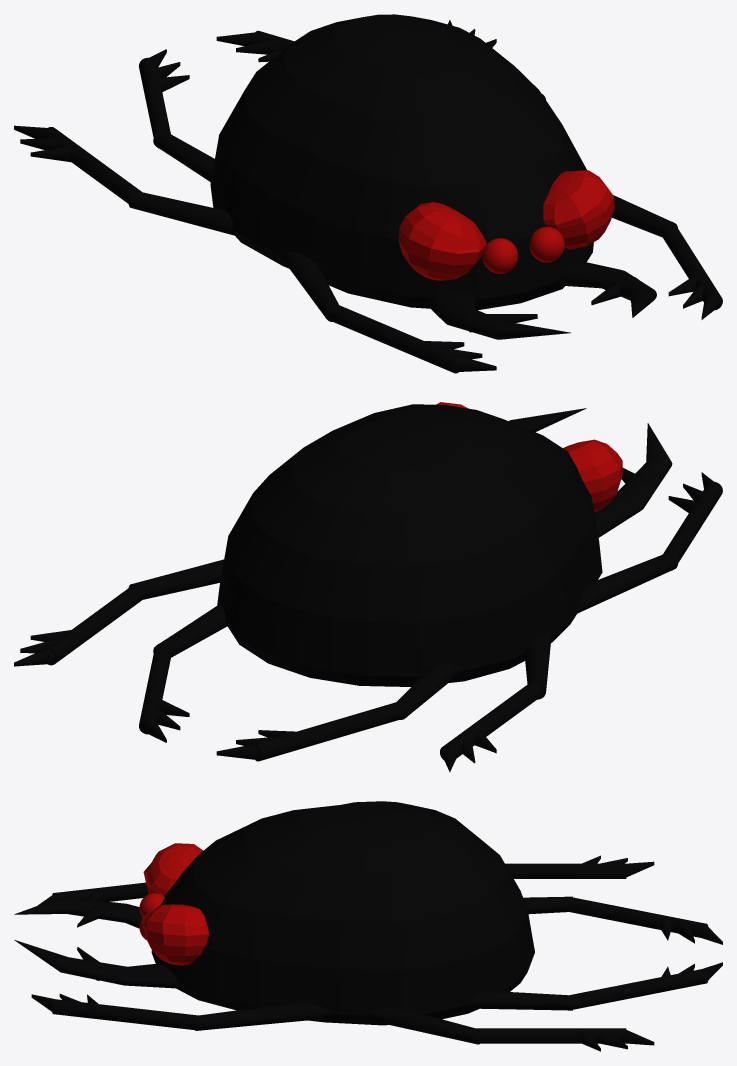
Rendered from Beetle.fbx.
3 views of the same model, one above another, from view 1: azimuth 30°, elevation 25°; view 2: azimuth 150°, elevation 25°; view 3: azimuth 270°, elevation 25° (orthographic). The views are drawn at different scales.
Visible parts, largest first — view 1: Carapace, BigRight, BigLeft, pCylinder2, LegLeft16, pCylinder1, LegLeft20, LegLeft21, LegLeft15, LegLeft1, LegLeft25, LegLeft26 (+3 smaller); view 2: Carapace, pCylinder2, LegLeft26, BigRight, LegLeft15, LegLeft6, LegLeft21, LegLeft5, LegLeft16, LegLeft10, LegLeft25, LegLeft11 (+2 smaller); view 3: Carapace, BigLeft, pCylinder1, LegLeft, LegLeft1, LegLeft11, LegLeft6, LegLeft5, LegLeft21, LegLeft26, pCylinder2, BigRight (+3 smaller).
Part boxes in pixels (box(x1,y1,x2,y2)): Carapace: box(210, 14, 593, 310); BigRight: box(398, 202, 486, 280); BigLeft: box(543, 170, 614, 249); pCylinder2: box(426, 290, 570, 339); LegLeft16: box(324, 303, 460, 373); pCylinder1: box(558, 260, 656, 317); LegLeft20: box(128, 191, 237, 236); LegLeft21: box(44, 127, 141, 203); LegLeft15: box(282, 252, 338, 321); LegLeft1: box(660, 221, 722, 310); LegLeft25: box(153, 130, 214, 182); LegLeft26: box(139, 57, 170, 148); Carapace: box(217, 404, 602, 686); pCylinder2: box(594, 423, 672, 537); LegLeft26: box(254, 701, 407, 761); BigRight: box(563, 439, 622, 512); LegLeft15: box(577, 552, 677, 613); LegLeft6: box(46, 583, 145, 665); LegLeft21: box(440, 680, 543, 759); LegLeft5: box(128, 559, 223, 599); LegLeft16: box(663, 481, 722, 570); LegLeft10: box(153, 604, 227, 657); LegLeft25: box(397, 663, 458, 719); LegLeft11: box(139, 642, 171, 734); Carapace: box(151, 801, 534, 1025); BigLeft: box(144, 904, 209, 965); pCylinder1: box(14, 940, 180, 988); LegLeft: box(195, 1002, 333, 1030); LegLeft1: box(52, 999, 200, 1030); LegLeft11: box(567, 968, 708, 1010); LegLeft6: box(475, 1028, 626, 1043); LegLeft5: box(364, 1007, 479, 1044); LegLeft21: box(505, 863, 626, 878); LegLeft26: box(567, 896, 708, 937); pCylinder2: box(14, 897, 142, 928); BigRight: box(143, 843, 203, 895).
Size of the model in its own units: 1.48 by 0.6036 by 2.3.
